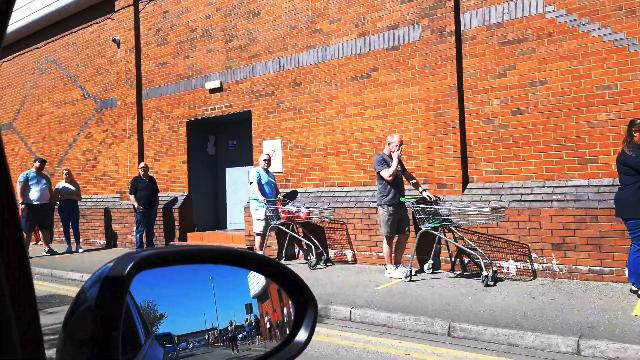berdiri: (373, 131, 427, 282), (235, 151, 292, 253), (130, 157, 167, 256)
